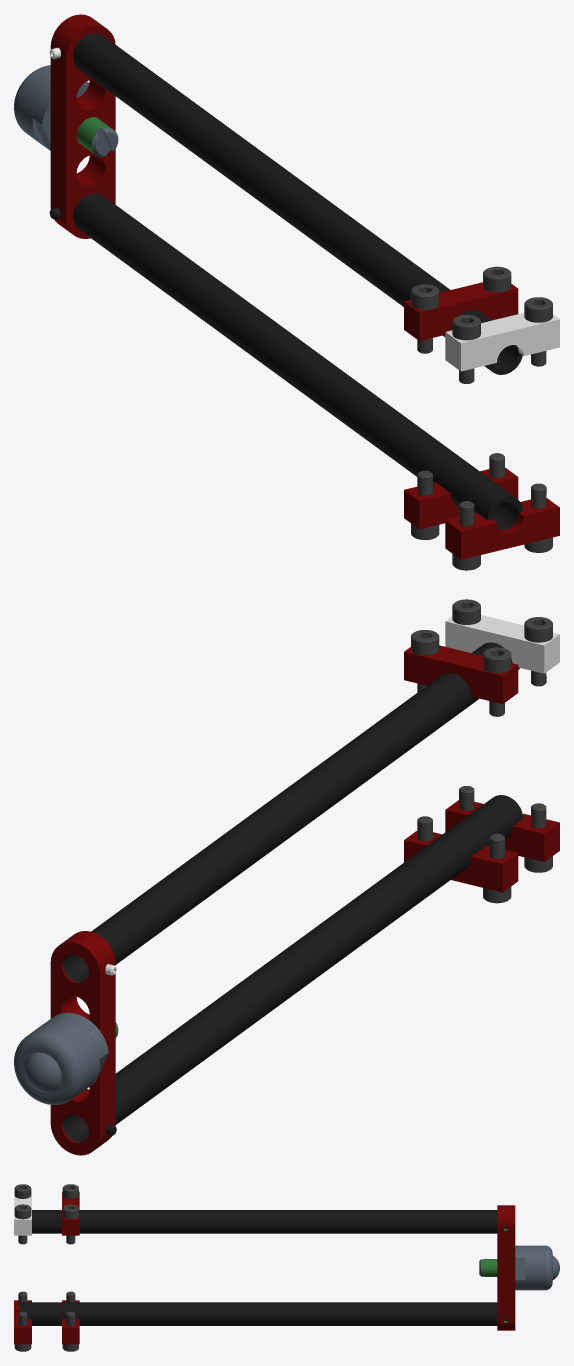
Rendered from standard_legs.dae.
3 views of the same model, one above another, from view 1: azimuth 30°, elevation 25°; view 2: azimuth 150°, elevation 25°; view 3: azimuth 270°, elevation 25° (orthographic). The views are drawn at different scales.
Visible parts, largest first — view 1: Body_1 (×13), _3DGeom_20, _3DGeom_121; view 2: Body_1 (×12), _3DGeom_20, _3DGeom_121; view 3: Body_1 (×12), _3DGeom_20, _3DGeom_121, _3DGeom_120.
Boxes of the visible parts, left/top/right/bottom form: Body_1 (×13): left=73, top=33, right=559, bottom=570; _3DGeom_20: left=50, top=14, right=115, bottom=238; _3DGeom_121: left=14, top=65, right=118, bottom=157; Body_1 (×12): left=63, top=599, right=559, bottom=1142; _3DGeom_20: left=50, top=931, right=115, bottom=1155; _3DGeom_121: left=14, top=1012, right=108, bottom=1104; Body_1 (×12): left=14, top=1184, right=507, bottom=1351; _3DGeom_20: left=497, top=1205, right=515, bottom=1330; _3DGeom_121: left=479, top=1245, right=559, bottom=1290; _3DGeom_120: left=481, top=1259, right=497, bottom=1276.
Size of the model in its own units: 0.022 by 0.1825 by 0.052.
